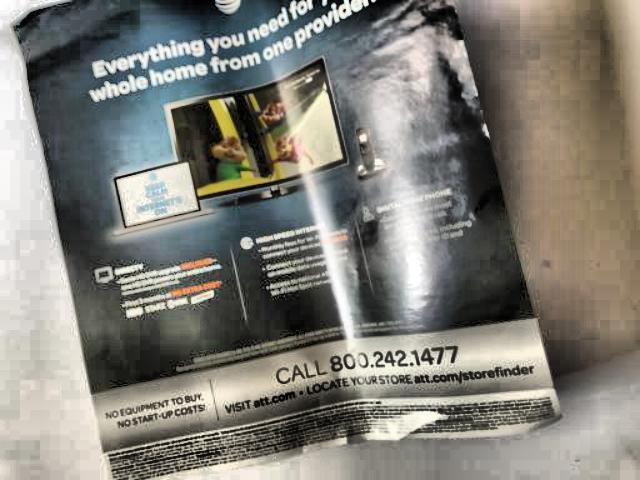Paper: (7, 0, 573, 468)
